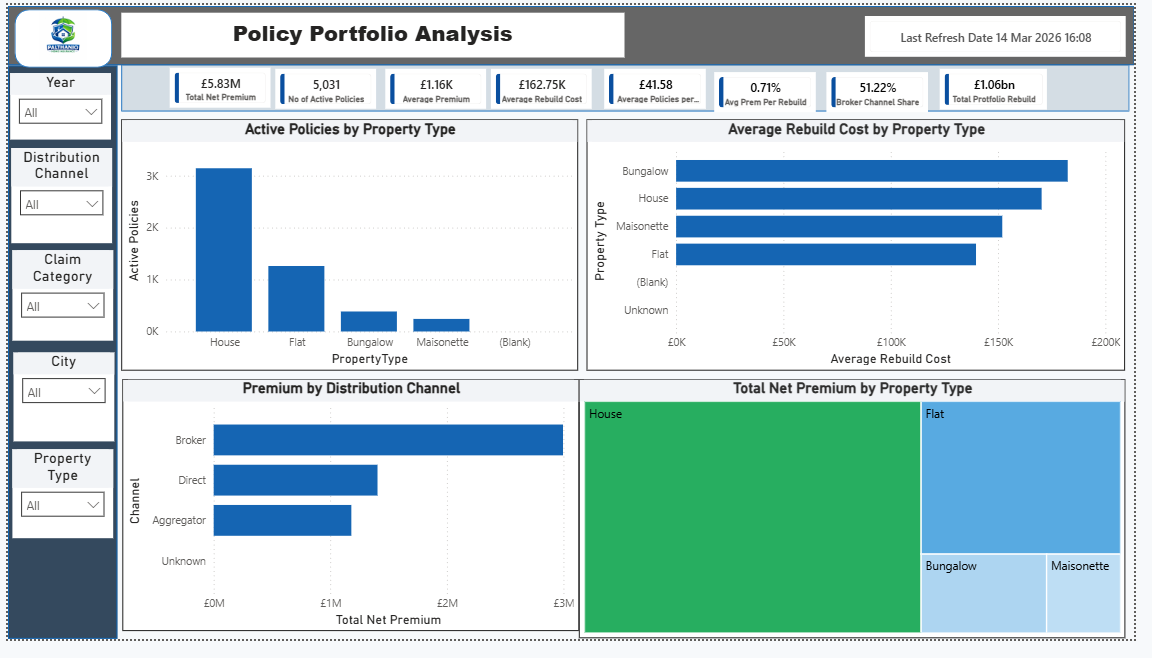

What the dashboard file says about the page in this screenshot:
{"tool":"powerbi","page":{"name":"Policy Portfolio Analysis","canvas":[1280,720],"ordinal":2},"visuals":[{"type":"group","id":"g1","title":"KPIs ","box":[129.1,67.8,1145.7,54.5],"z":0},{"type":"shape","title":"KPI Background","box":[129.1,67.8,1145.7,53.5],"z":0,"group":"g1"},{"type":"cardVisual","title":"Total Revenue","fields":{"Data":["_Measures.Total Net Premium"]},"box":[183.7,71.5,114.2,45],"z":1000,"group":"g1"},{"type":"cardVisual","title":"Average Claim Cost","fields":{"Data":["_Measures.Total Rebuild Cost"]},"box":[1058.9,72.2,122.2,46.7],"z":1000},{"type":"cardVisual","title":"Total Claims Paid","fields":{"Data":["_Measures.No of Active Policies"]},"box":[303.7,72.6,114.2,45],"z":2000,"group":"g1"},{"type":"clusteredColumnChart","title":"Active Policies by Property Type","fields":{"Category":["gold dim_address.PropertyType"],"Y":["_Measures.No of Active Policies"]},"box":[128.9,130,518.9,285],"z":2000},{"type":"cardVisual","title":"Claims Frequency","fields":{"Data":["_Measures.Average Premium Per Rebuild Cost"]},"box":[803.3,75.9,115,45],"z":3000,"group":"g1"},{"type":"clusteredBarChart","title":"Average Rebuild Cost by Property Type","fields":{"Category":["gold dim_address.PropertyType"],"Y":["_Measures.Average Rebuild Cost"]},"box":[657.8,130,612.2,285.6],"z":3000},{"type":"cardVisual","title":"Loss Ratio","fields":{"Data":["_Measures.Average Policies per Broker"]},"box":[677.5,72.6,115,45],"z":4000,"group":"g1"},{"type":"clusteredBarChart","title":"Premium by Distribution Channel","fields":{"Category":["gold dim_broker.Channel"],"Y":["_Measures.Total Net Premium"]},"box":[130,425.6,518.9,286.7],"z":4000},{"type":"cardVisual","title":"No. Of Active Policies","fields":{"Data":["_Measures.Average Premium"]},"box":[428.7,72.6,114.2,45],"z":5000,"group":"g1"},{"type":"treemap","title":"Total Net Premium by Property Type","fields":{"Group":["gold dim_address.PropertyType"],"Values":["_Measures.Total Net Premium"]},"box":[648.9,425.6,621.1,294.4],"z":5000},{"type":"shape","title":"Deep Blue Header ","box":[0,68.6,124.3,651.4],"z":6000},{"type":"cardVisual","title":"No. Of Claims","fields":{"Data":["_Measures.Average Rebuild Cost"]},"box":[549.1,72.6,114.2,45],"z":6000,"group":"g1"},{"type":"shape","title":"Deep Blue Header ","box":[0,1.4,1280,67.1],"z":7000},{"type":"cardVisual","title":"Average Claim Cost","fields":{"Data":["_Measures.Broker Channel Share"]},"box":[930,76.8,115.6,45.6],"z":7000,"group":"g1"},{"type":"textbox","title":"Executive Summary","box":[129.2,8.5,571.5,50.8],"z":8000},{"type":"shape","title":"Logo Background","box":[6.9,5.4,110.8,66.2],"z":9000},{"type":"image","title":"Logo","box":[19.4,8.2,85.3,54.1],"z":10000},{"type":"slicer","title":"Year","fields":{"Values":["gold dim_date.YearNumber"]},"box":[2.7,77.3,114.5,75.5],"z":11000},{"type":"slicer","title":"Claim Category","fields":{"Values":["gold dim_claim_type.ClaimType"]},"box":[5.5,279.1,114.5,102.7],"z":12000},{"type":"slicer","title":"City","fields":{"Values":["gold dim_address.City"]},"box":[6.7,394.4,114.4,101.1],"z":13000},{"type":"slicer","title":"Distribution Channel","fields":{"Values":["gold dim_broker.Channel"]},"box":[3.6,162.7,114.5,108.2],"z":14000},{"type":"cardVisual","title":"Average Claim Cost","fields":{"Data":["_Measures.Last Refresh Date"]},"box":[973.3,12.2,296.7,46.7],"z":15000},{"type":"slicer","title":"Property Type","fields":{"Values":["gold dim_address.PropertyType"]},"box":[5.6,504.4,114.4,101.1],"z":16000}]}

Visuals, with their boxes in screenshot pixels (x1, y1, x2, y2), scaled from the page's 1280x720 canvas onto the 1152x658 screenshot:
"KPIs " group: 116/62/1147/112
"KPI Background" shape: 116/62/1147/111
"Total Revenue" cardVisual: 165/65/268/106
"Average Claim Cost" cardVisual: 953/66/1063/109
"Total Claims Paid" cardVisual: 273/66/376/107
"Active Policies by Property Type" clusteredColumnChart: 116/119/583/379
"Claims Frequency" cardVisual: 723/69/826/110
"Average Rebuild Cost by Property Type" clusteredBarChart: 592/119/1143/380
"Loss Ratio" cardVisual: 610/66/713/107
"Premium by Distribution Channel" clusteredBarChart: 117/389/584/651
"No. Of Active Policies" cardVisual: 386/66/489/107
"Total Net Premium by Property Type" treemap: 584/389/1143/657
"Deep Blue Header " shape: 0/63/112/657
"No. Of Claims" cardVisual: 494/66/597/107
"Deep Blue Header " shape: 0/1/1151/63
"Average Claim Cost" cardVisual: 837/70/941/112
"Executive Summary" textbox: 116/8/631/54
"Logo Background" shape: 6/5/106/65
"Logo" image: 17/7/94/57
"Year" slicer: 2/71/105/140
"Claim Category" slicer: 5/255/108/349
"City" slicer: 6/360/109/453
"Distribution Channel" slicer: 3/149/106/248
"Average Claim Cost" cardVisual: 876/11/1143/54
"Property Type" slicer: 5/461/108/553
